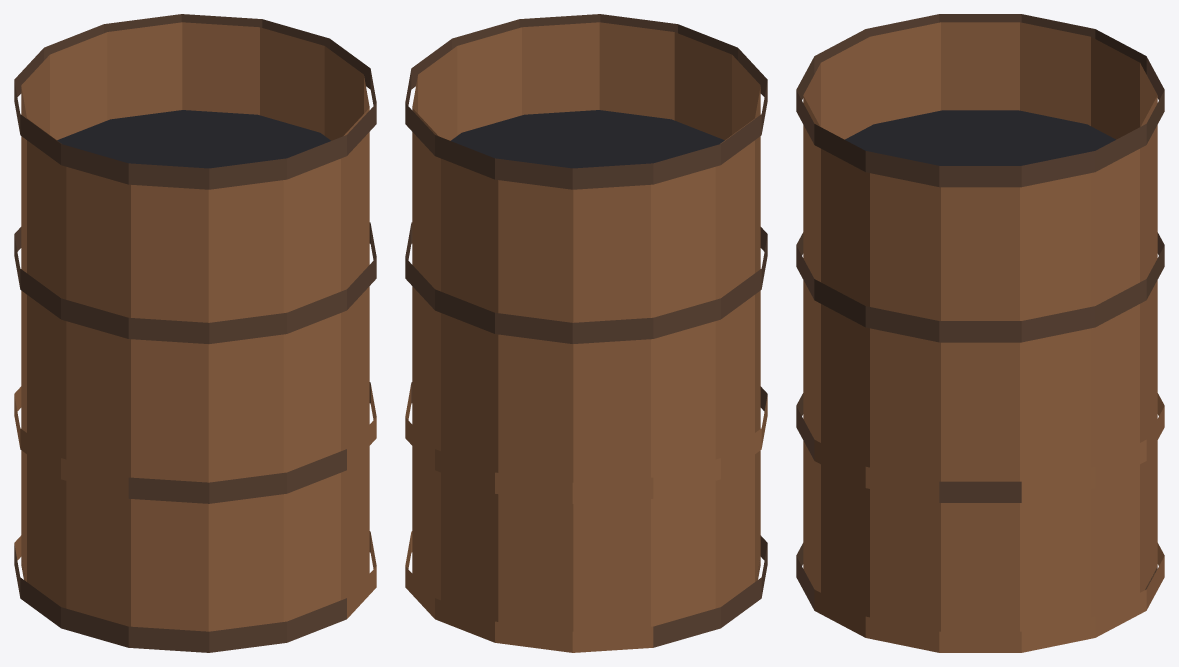
Rendered from v2_drum.glb.
3 renders of one model, left to right at view 1: azimuth 30°, elevation 25°; view 2: azimuth 150°, elevation 25°; view 3: azimuth 270°, elevation 25°, orthographic.
Parts seen in each view (by area): view 1: v2_drum; view 2: v2_drum; view 3: v2_drum.
Part boxes in pixels (x1,y1,x2,y2): v2_drum: [14, 14, 376, 652]; v2_drum: [405, 14, 767, 652]; v2_drum: [796, 14, 1164, 652].
Size of the model in its own units: 0.6084 by 0.91 by 0.624.
